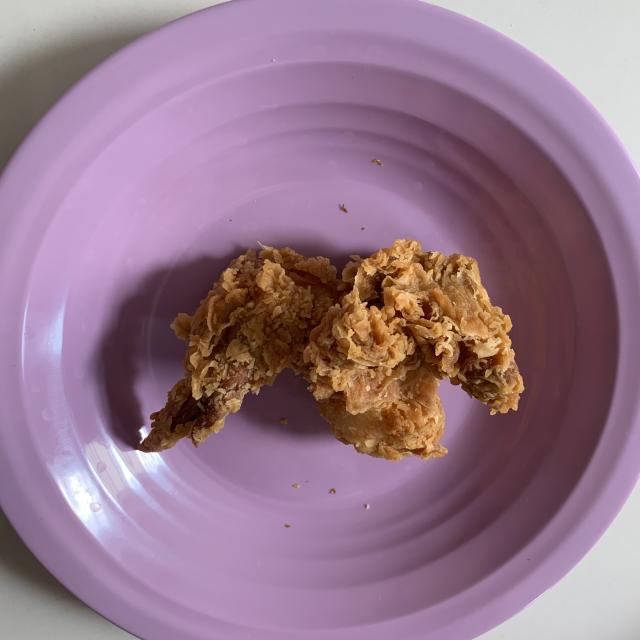Frango: (140, 234, 530, 456)
